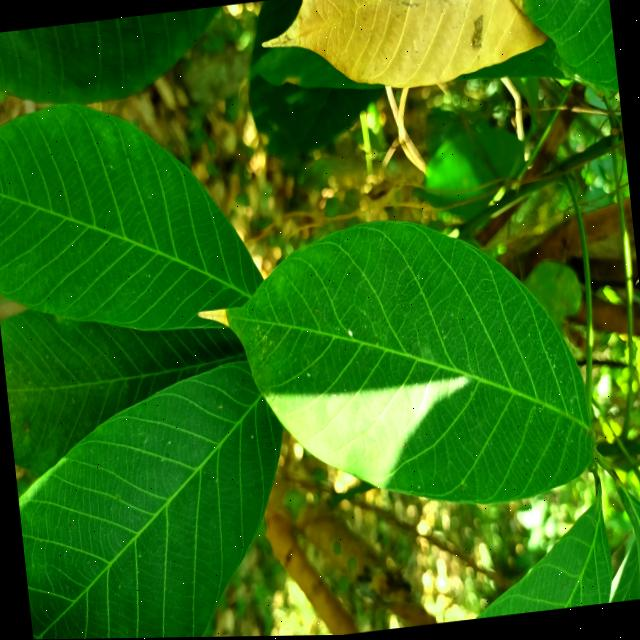Colletotrichum: (400, 443, 404, 447)
Leaf-Blight: (196, 308, 229, 330), (482, 0, 524, 15)
